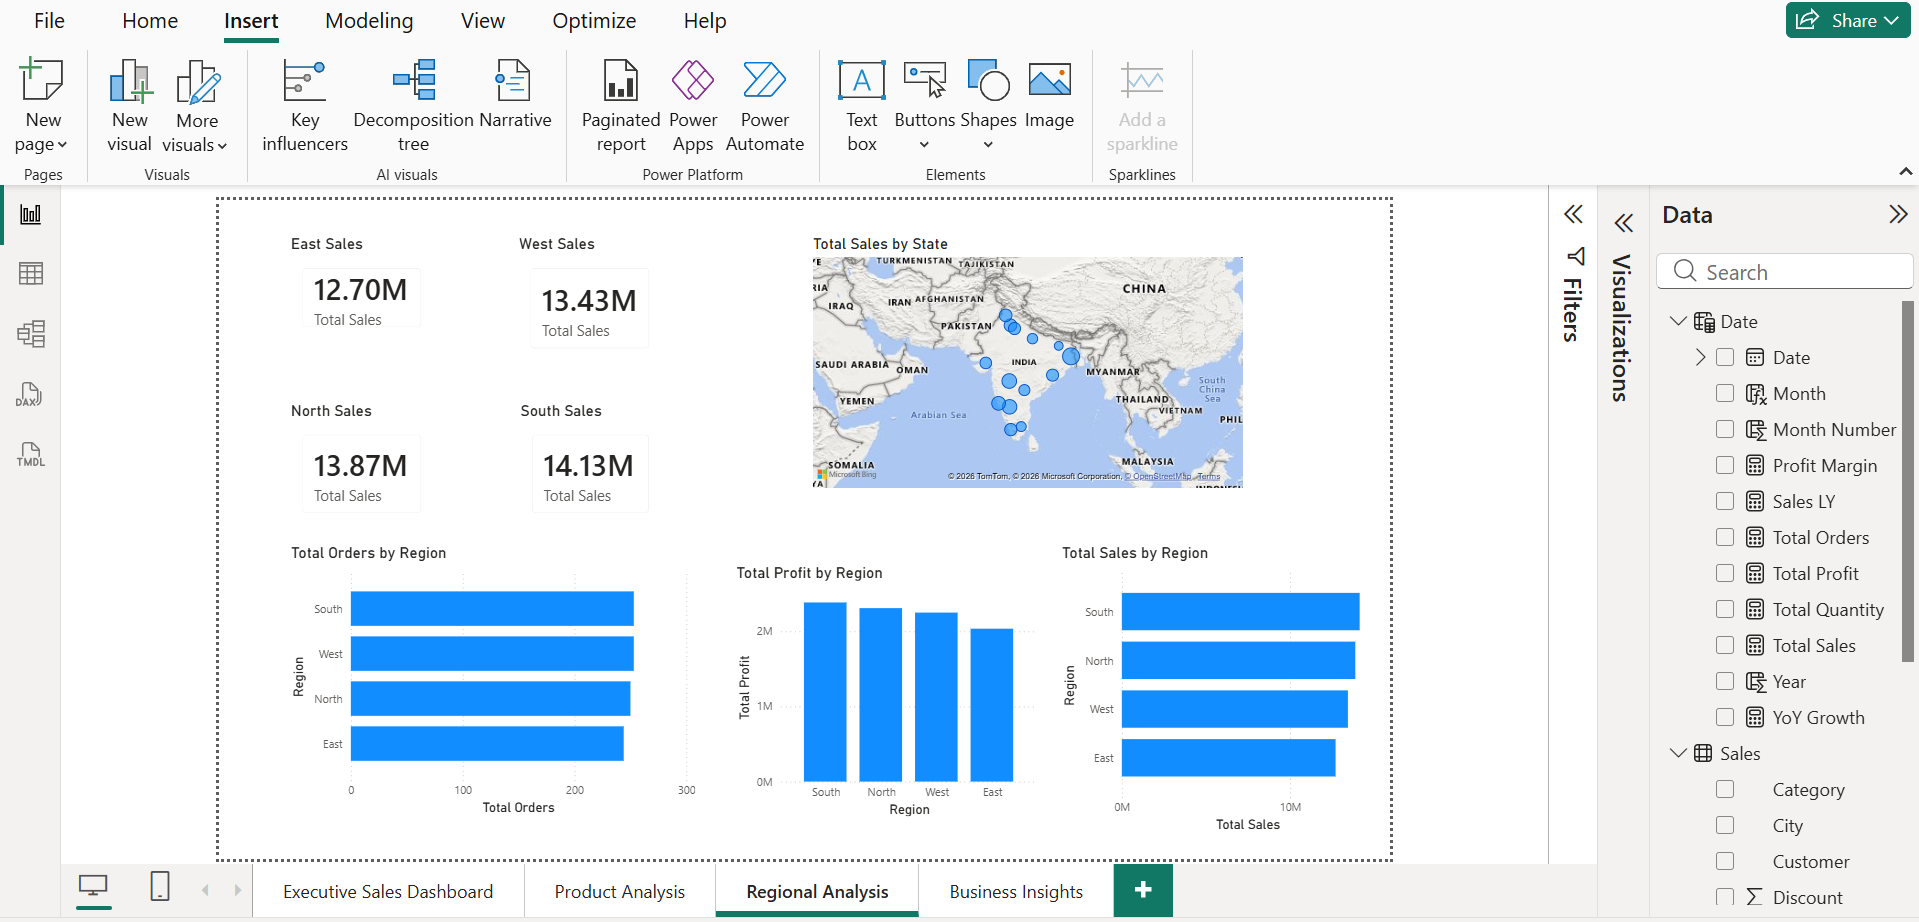

The page's visual inventory and layout, read from the dashboard file:
{"tool":"powerbi","page":{"name":"Regional Analysis","canvas":[1280,720],"ordinal":2},"visuals":[{"type":"clusteredBarChart","fields":{"Y":["Date.Total Sales"],"Category":["Sales.Region"]},"box":[916.5,376.1,362.8,319.4],"z":0},{"type":"clusteredColumnChart","fields":{"Category":["Sales.Region"],"Y":["Date.Total Profit"]},"box":[561.3,396.9,338.3,281.6],"z":1000},{"type":"map","fields":{"Category":["Sales.State"],"Size":["Date.Total Sales"]},"box":[644.4,37.8,480,281.6],"z":2000},{"type":"clusteredBarChart","fields":{"Y":["Date.Total Orders"],"Category":["Sales.Region"]},"box":[73.7,376.1,451.7,300.5],"z":3000},{"type":"cardVisual","title":"East Sales","fields":{"Data":["Date.Total Sales"]},"box":[73.7,37.8,164.4,119.1],"z":4000},{"type":"cardVisual","title":"West Sales","fields":{"Data":["Date.Total Sales"]},"box":[323.2,37.8,164.4,141.7],"z":5000},{"type":"cardVisual","title":"North Sales","fields":{"Data":["Date.Total Sales"]},"box":[73.7,219.2,164.4,139.8],"z":6000},{"type":"cardVisual","title":"South Sales","fields":{"Data":["Date.Total Sales"]},"box":[325,219.2,162.5,139.8],"z":7000}]}

Visuals, with their boxes on the page's 1280x720 design canvas (x1, y1, x2, y2). These are canvas units, not pixel positions in the 1919x922 screenshot, which may show the page scaled, cropped or inside an application window:
clusteredBarChart - Date.Total Sales x Sales.Region: rect(916, 376, 1279, 696)
clusteredColumnChart - Sales.Region x Date.Total Profit: rect(561, 397, 900, 678)
map - Sales.State x Date.Total Sales: rect(644, 38, 1124, 319)
clusteredBarChart - Date.Total Orders x Sales.Region: rect(74, 376, 525, 677)
"East Sales" cardVisual: rect(74, 38, 238, 157)
"West Sales" cardVisual: rect(323, 38, 488, 180)
"North Sales" cardVisual: rect(74, 219, 238, 359)
"South Sales" cardVisual: rect(325, 219, 488, 359)
